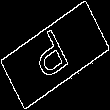P_SE: (31, 24, 79, 86)
